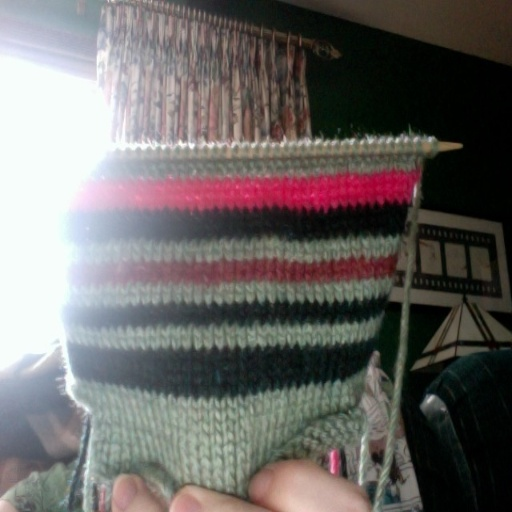hand: (110, 457, 372, 510)
